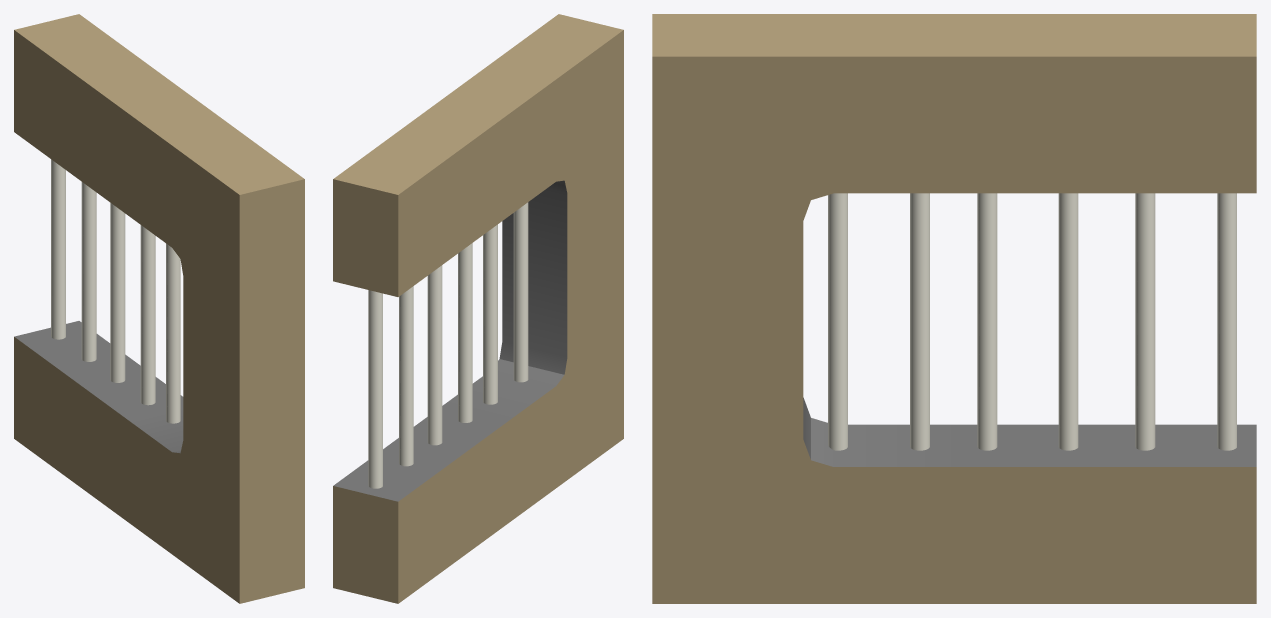
The model's file is SideWindow.fbx.
3 renders of one model, left to right at view 1: azimuth 30°, elevation 25°; view 2: azimuth 150°, elevation 25°; view 3: azimuth 270°, elevation 25°, orthographic. The views are drawn at different scales.
Parts seen in each view (by area): view 1: Box001; view 2: Box001; view 3: Box001.
Part boxes in pixels (bbox=[...]): Box001: bbox=[14, 14, 304, 603]; Box001: bbox=[333, 14, 623, 603]; Box001: bbox=[652, 14, 1256, 603].
Bounding box in the file's own units: 50 × 300 × 300.
